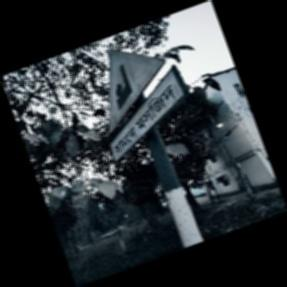Mosque in front: (101, 45, 193, 168)
